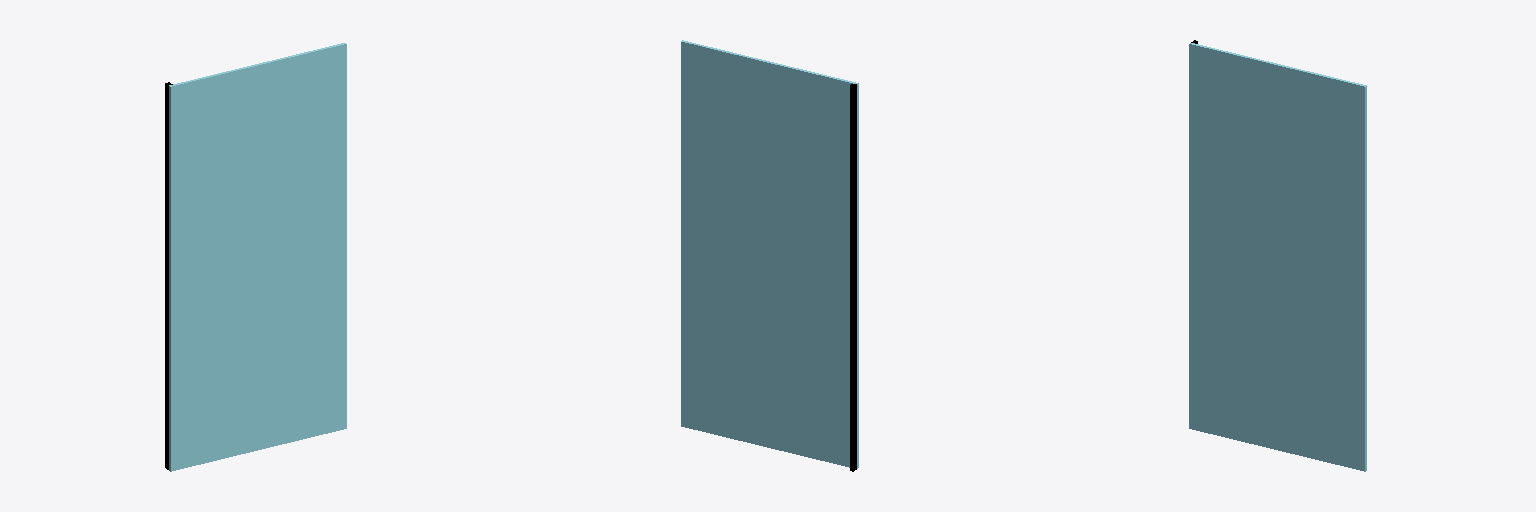
3 views of the same model, side by side, from view 1: azimuth 30°, elevation 25°; view 2: azimuth 150°, elevation 25°; view 3: azimuth 330°, elevation 25° (orthographic).
Parts seen in each view (by area): view 1: polySurface11; view 2: polySurface11; view 3: polySurface11.
Boxes of the visible parts, x1=… form: polySurface11: x1=165, y1=43, x2=346, y2=471; polySurface11: x1=681, y1=40, x2=858, y2=471; polySurface11: x1=1189, y1=40, x2=1366, y2=471.
Bounding box in the file's own units: 3.64 × 7.6 × 0.1796.
2 materials, 1 textured.